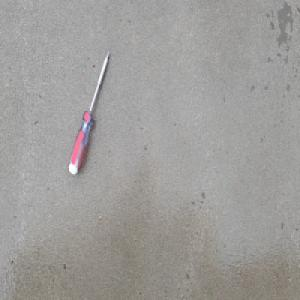Screwdriver: (67, 49, 110, 177)
